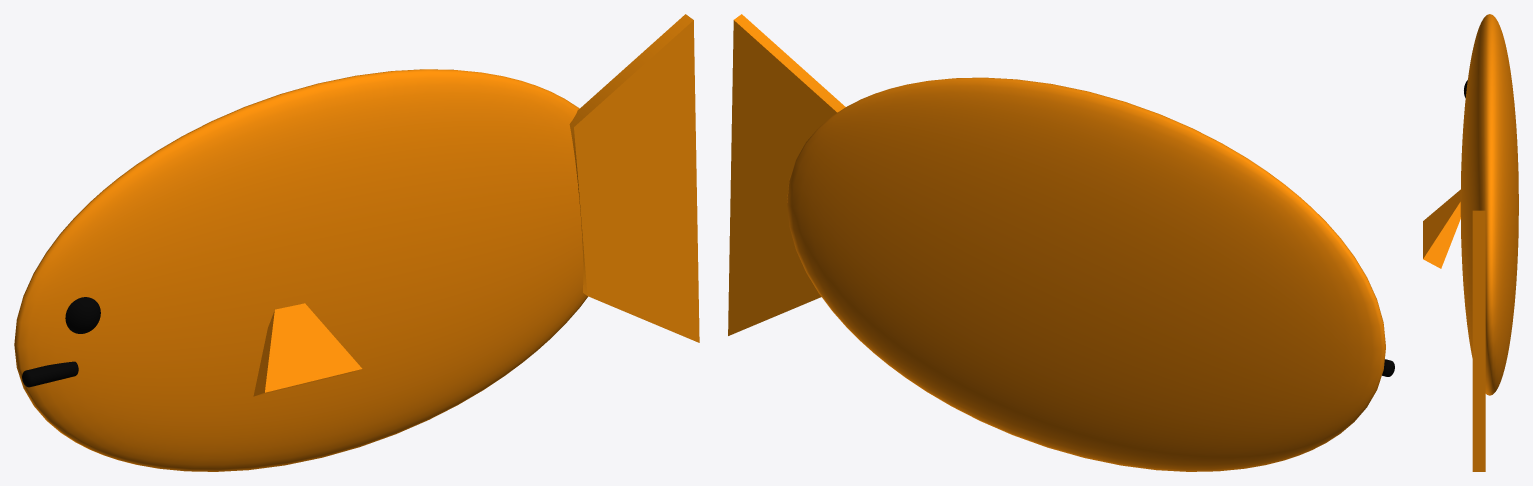
Rendered from Fish 1.fbx.
The picture shows the model from 3 angles, left to right: view 1: azimuth 30°, elevation 25°; view 2: azimuth 150°, elevation 25°; view 3: azimuth 270°, elevation 25°; orthographic projection. The views are drawn at different scales.
Parts seen in each view (by area): view 1: node_id84 (×5); view 2: node_id84 (×2); view 3: node_id84 (×3).
Part boxes in pixels (bbox=[...]): node_id84 (×5): bbox=[14, 14, 699, 471]; node_id84 (×2): bbox=[728, 14, 1385, 471]; node_id84 (×3): bbox=[1423, 14, 1518, 471].
Bounding box in the file's own units: 0.2724 × 0.1442 × 0.042.
5 materials, 3 textured.
